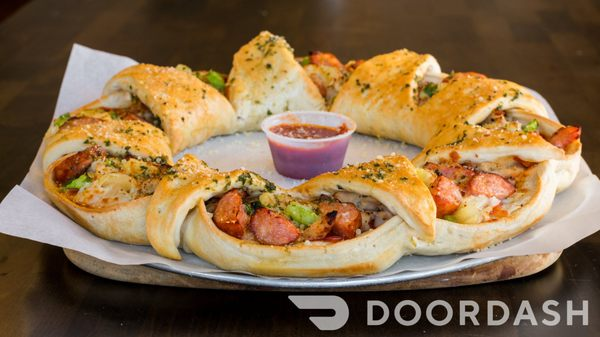sushi: (261, 110, 357, 180)
